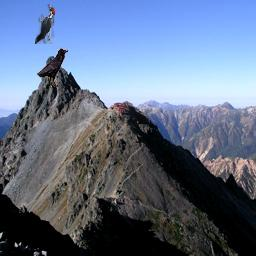Crow: (36, 47, 68, 87)
Woodpecker: (35, 4, 55, 44)
